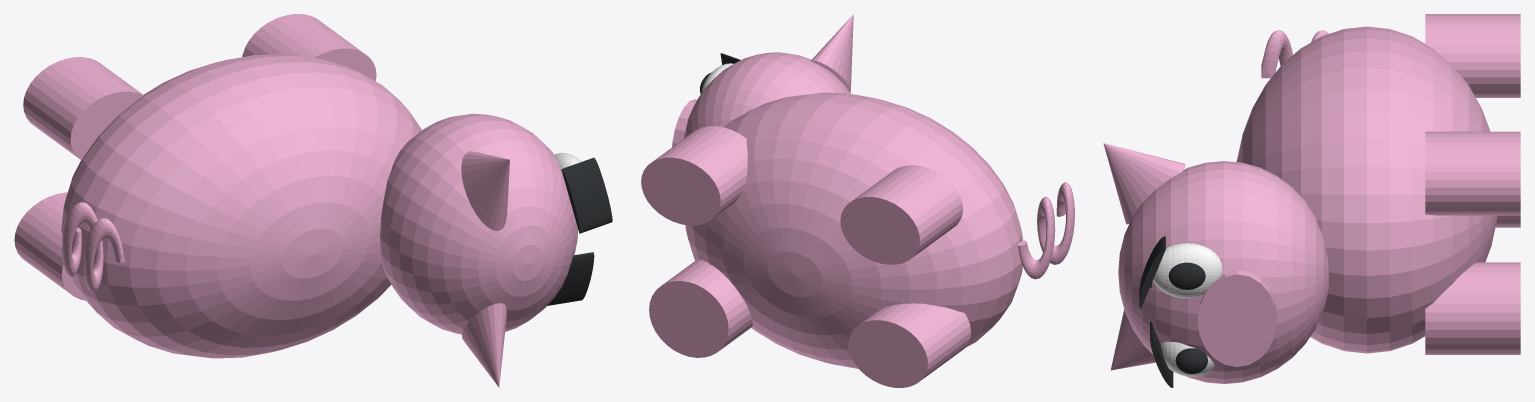
File: tinker.obj
The picture shows the model from 3 angles, left to right: view 1: azimuth 30°, elevation 25°; view 2: azimuth 150°, elevation 25°; view 3: azimuth 270°, elevation 25°; orthographic projection. The views are drawn at different scales.
Visible parts, largest first — view 1: group_0_15708628, group_0_2829873; view 2: group_0_15708628; view 3: group_0_15708628, group_0_16448250, group_0_2829873.
Part boxes in pixels (box(x1,y1,x2,y2)): group_0_15708628: box(14, 14, 578, 387); group_0_2829873: box(547, 157, 612, 305); group_0_15708628: box(641, 14, 1074, 387); group_0_15708628: box(1103, 14, 1520, 383); group_0_16448250: box(1153, 243, 1222, 376); group_0_2829873: box(1139, 236, 1207, 387).
Bounding box in the file's own units: 50 × 29 × 39.4.
